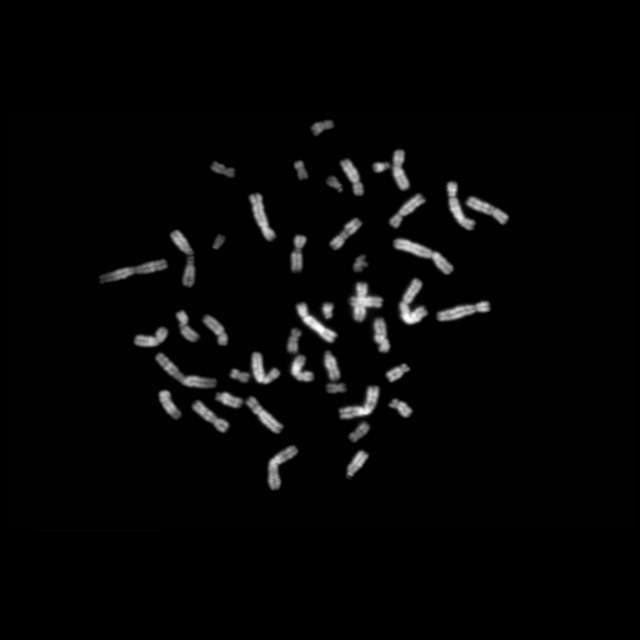chromosome: (392, 238, 452, 274), (156, 354, 217, 388), (99, 258, 167, 288), (296, 302, 338, 343), (246, 396, 284, 434), (339, 385, 379, 419), (171, 230, 195, 286), (250, 194, 276, 242), (448, 182, 474, 230), (268, 445, 296, 489), (389, 194, 425, 228), (399, 279, 426, 323), (466, 198, 508, 225), (194, 400, 228, 432), (437, 300, 489, 320), (330, 218, 362, 250), (340, 158, 364, 196), (252, 352, 280, 384), (392, 150, 412, 190), (204, 316, 228, 346), (177, 310, 198, 342), (157, 392, 180, 421), (136, 328, 168, 347), (291, 355, 313, 381), (354, 282, 368, 322), (346, 452, 368, 476), (292, 235, 306, 271), (325, 352, 341, 381), (348, 422, 370, 442), (390, 398, 412, 418), (386, 364, 410, 382), (351, 296, 383, 308), (215, 392, 241, 406), (212, 162, 234, 178), (287, 329, 301, 353), (312, 120, 332, 136), (374, 318, 386, 342), (326, 176, 342, 194), (294, 162, 308, 180), (230, 369, 248, 383), (352, 257, 368, 271), (374, 162, 391, 174), (326, 384, 346, 394), (213, 234, 225, 250), (323, 302, 333, 320), (378, 339, 390, 353)
